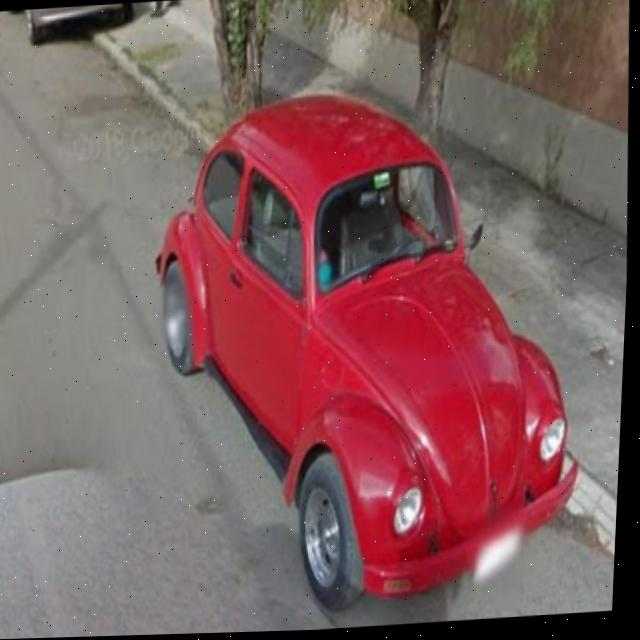vehicle: (146, 98, 597, 592)
